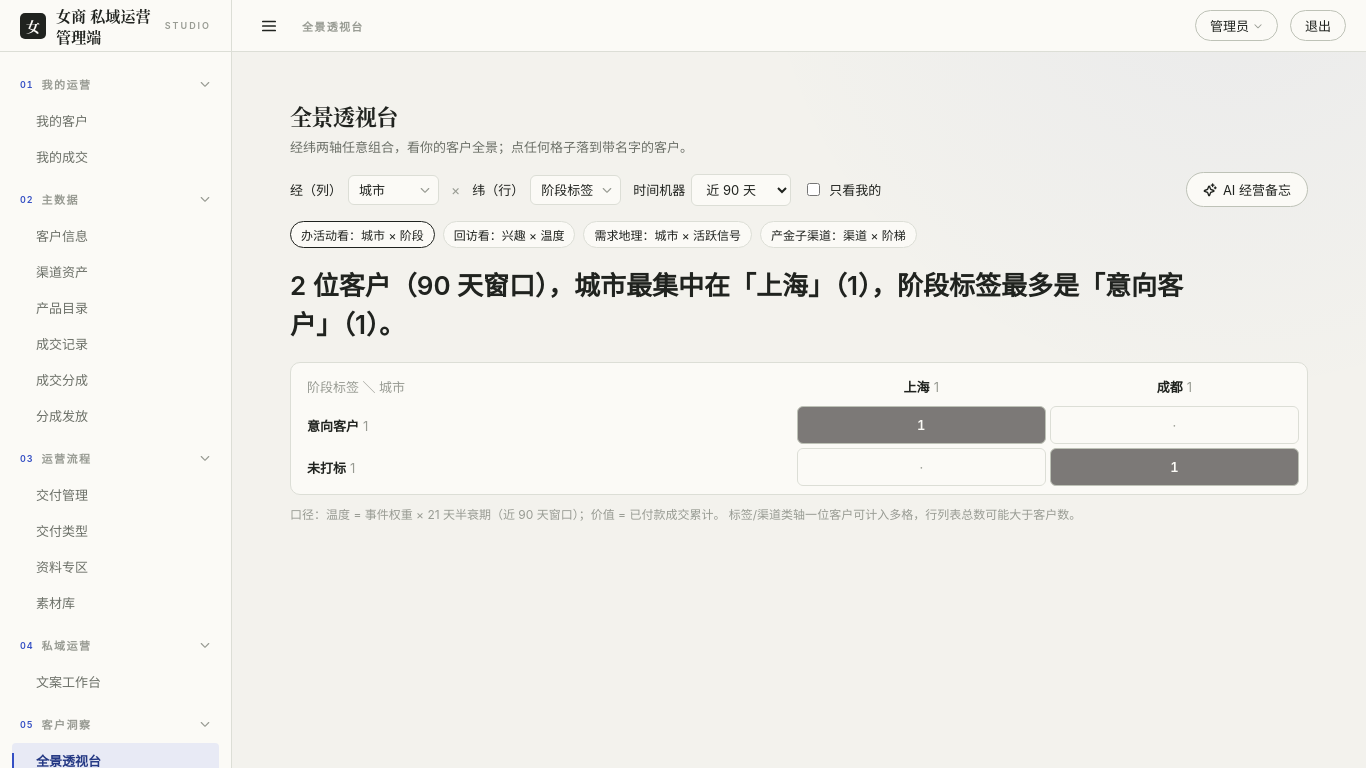
Test: 全景透视台 › admin：结论行 + 矩阵渲染；格子→客户清单→深潜抽屉
Expected: the heading "全景透视台" is shown, [290, 100, 398, 131]
Expected: the text "2 位客户" is shown, [290, 270, 1183, 340]
Note: 热度格子（按 aria-label 找）
What coordinates should you click on to do the following:
click the button named "意向客户 × 上海：1 位客户"
I would click on:
 (921, 425)
Its box is [797, 406, 1046, 444].
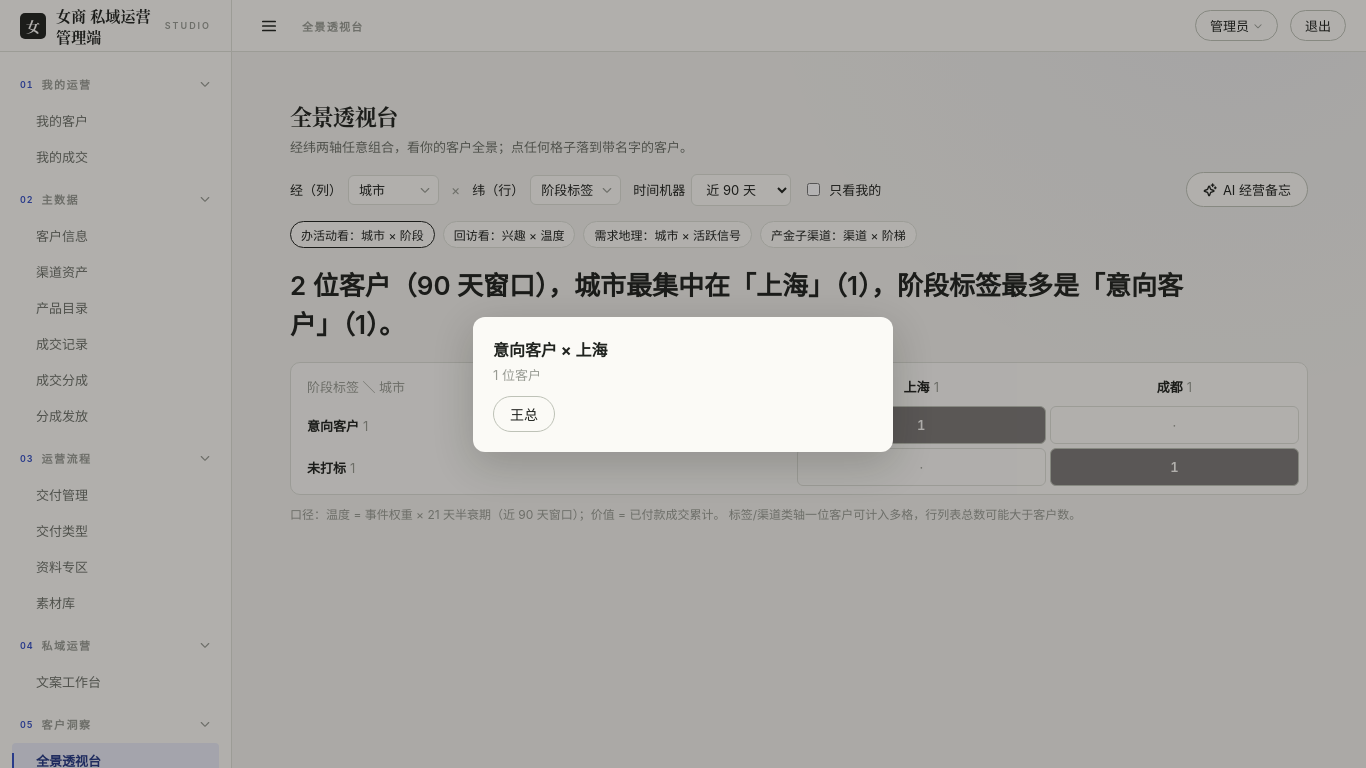
Now the dialog named "客户清单：意向客户 × 上海" is shown
What coordinates should you click on to do the following:
click the button "王总"
I would click on:
 (524, 414)
Its box is [493, 396, 555, 432].
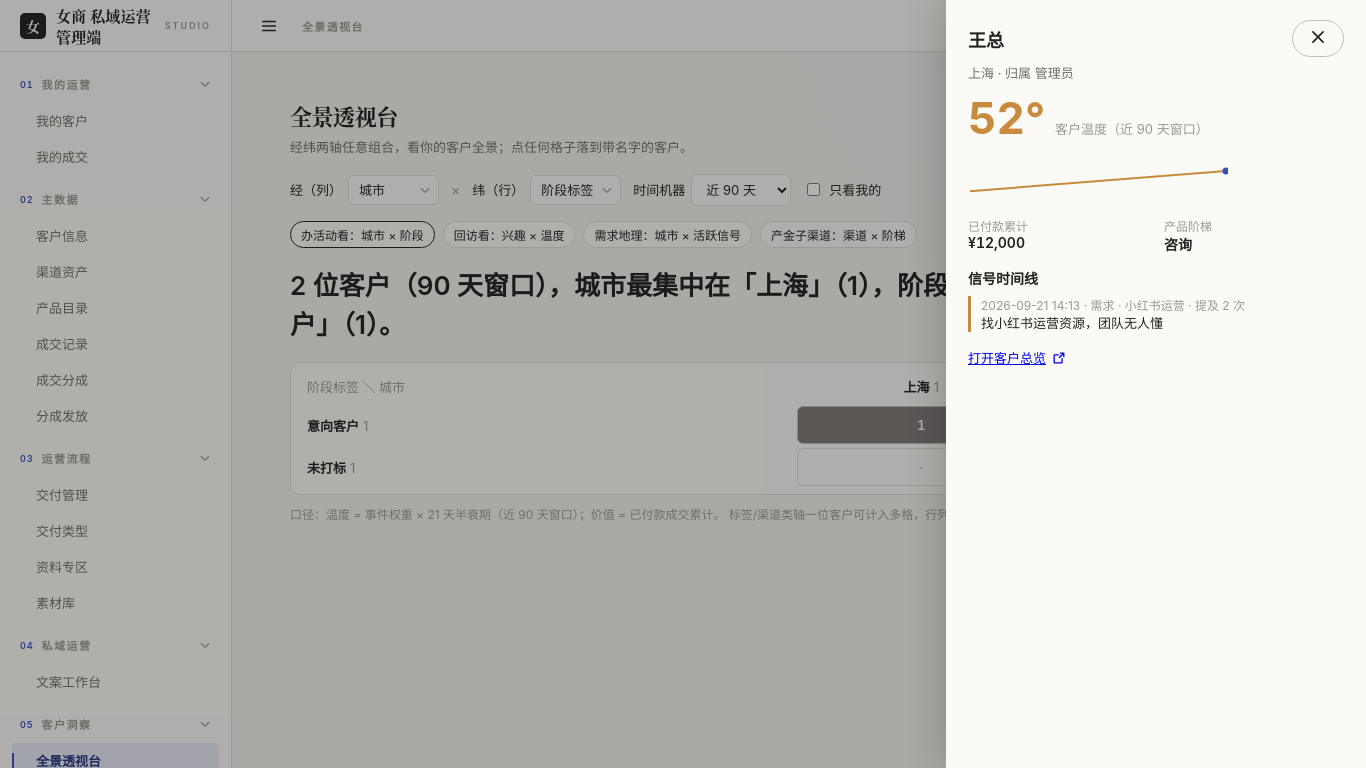
Now the dialog named "客户深潜" shows "52°", box [946, 0, 1365, 767]
Now the dialog named "客户深潜" shows "找小红书运营资源", box [981, 315, 1163, 331]
Now the dialog named "客户深潜" shows "¥12,000", box [968, 234, 1025, 251]
